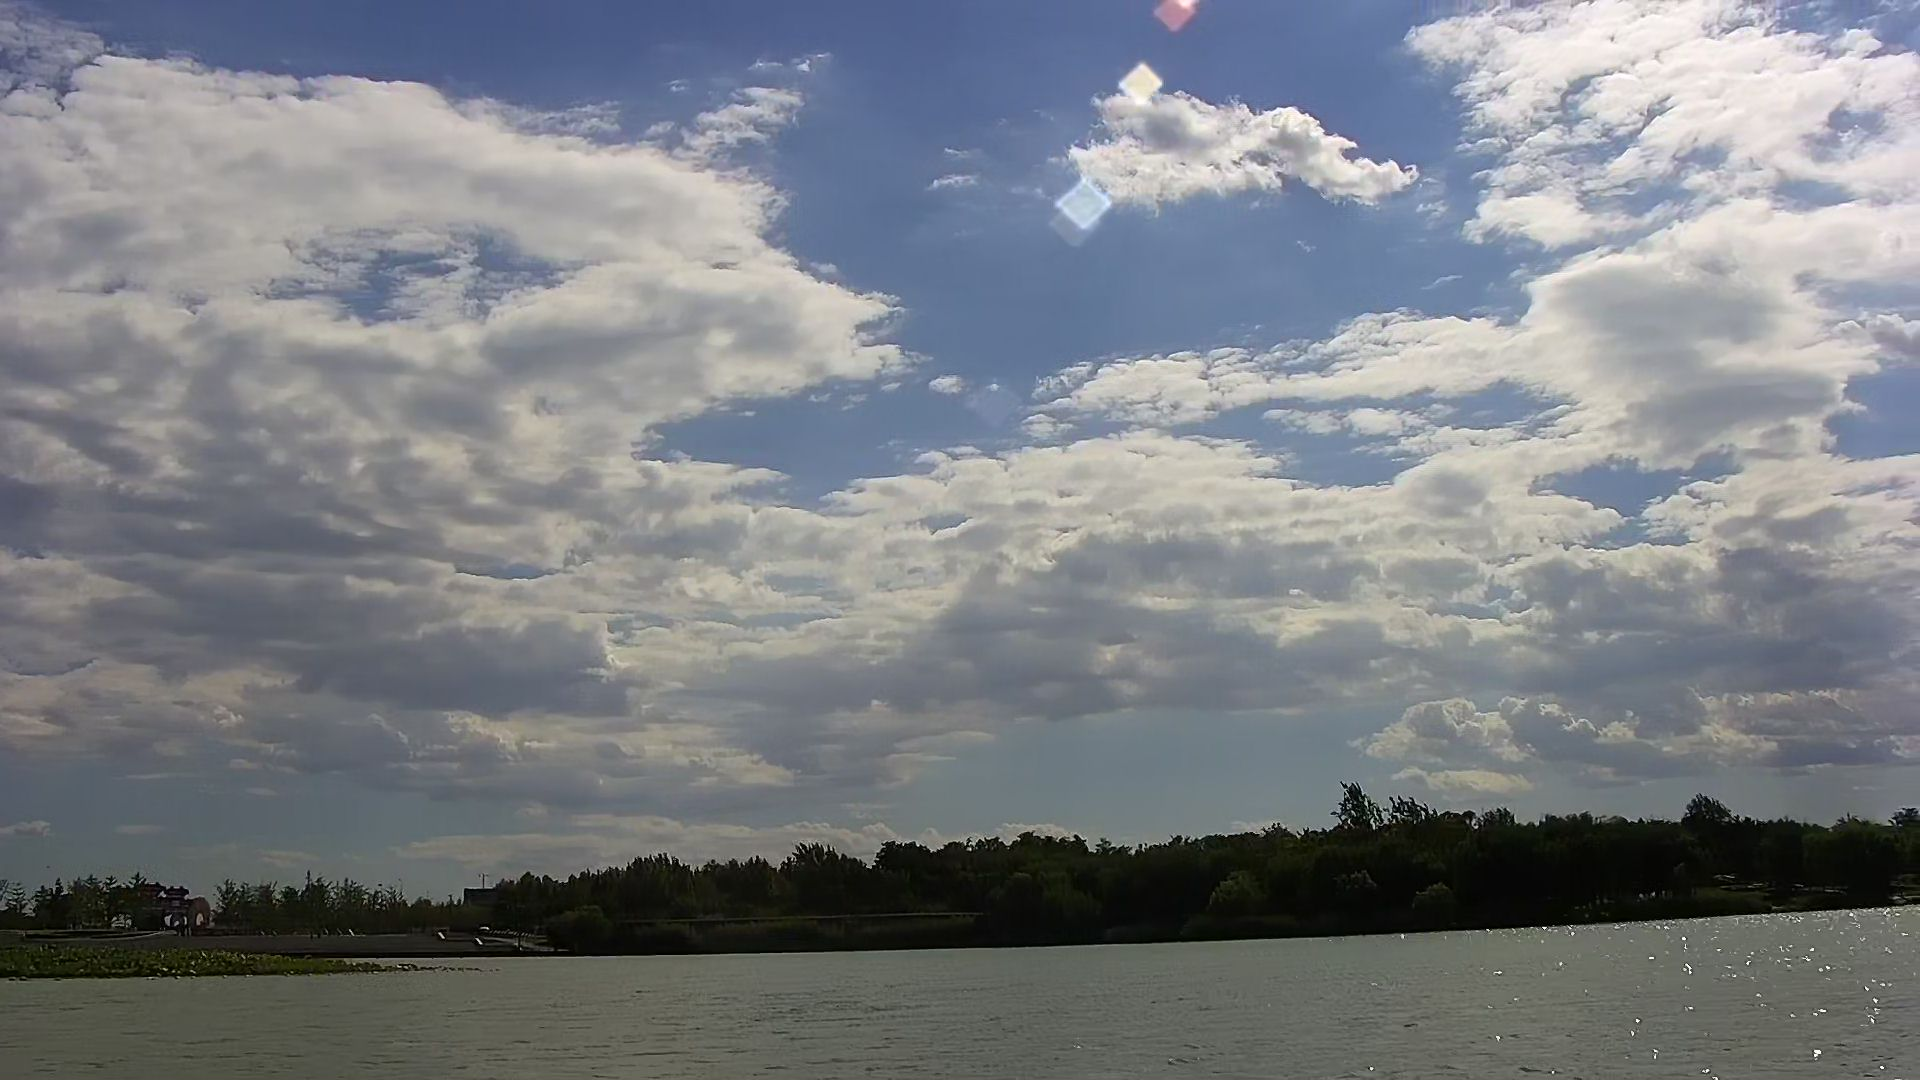harbor: (280, 918, 553, 960)
